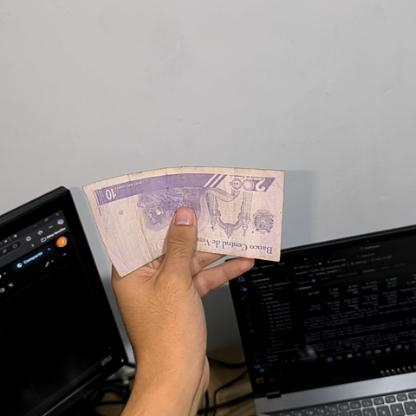ten-back-vef: (83, 166, 286, 275)
